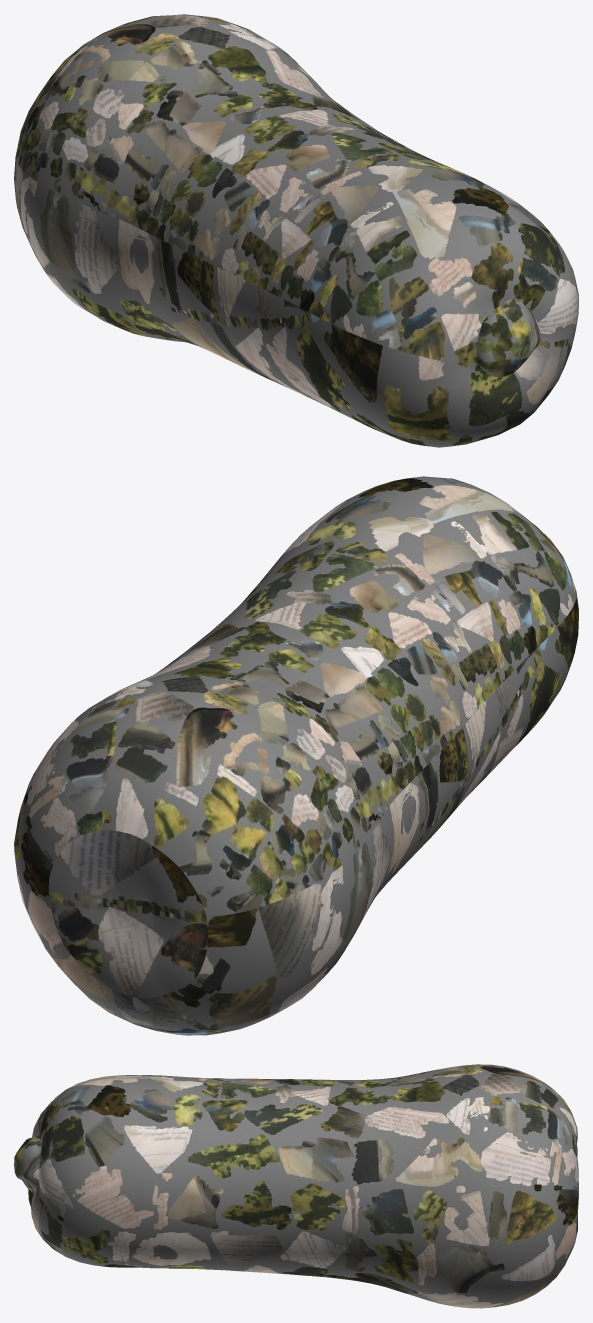
3 renders of one model, top to bottom at view 1: azimuth 30°, elevation 25°; view 2: azimuth 150°, elevation 25°; view 3: azimuth 270°, elevation 25°, orthographic. The views are drawn at different scales.
Size of the model in its own units: 0.4346 by 0.4359 by 1.
